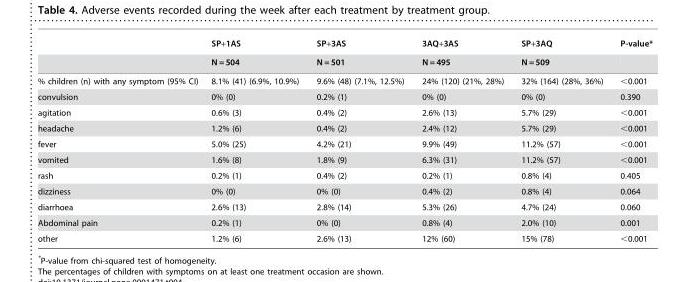table: (37, 36, 652, 242)
table column: (37, 36, 204, 242), (306, 36, 412, 242), (204, 36, 306, 242), (511, 36, 611, 242), (412, 36, 511, 242), (611, 36, 652, 242)
table column header: (37, 36, 652, 71)
table row: (37, 52, 652, 71), (37, 71, 652, 88), (37, 36, 652, 52), (37, 88, 652, 104), (37, 104, 652, 120), (37, 120, 652, 136), (37, 151, 652, 167), (37, 167, 652, 183), (37, 183, 652, 199), (37, 214, 652, 230), (37, 136, 652, 151), (37, 199, 652, 214), (37, 230, 652, 242)
table spanning cell: (306, 36, 412, 71), (204, 36, 306, 71), (511, 36, 611, 71), (412, 36, 511, 71), (611, 36, 652, 71)
